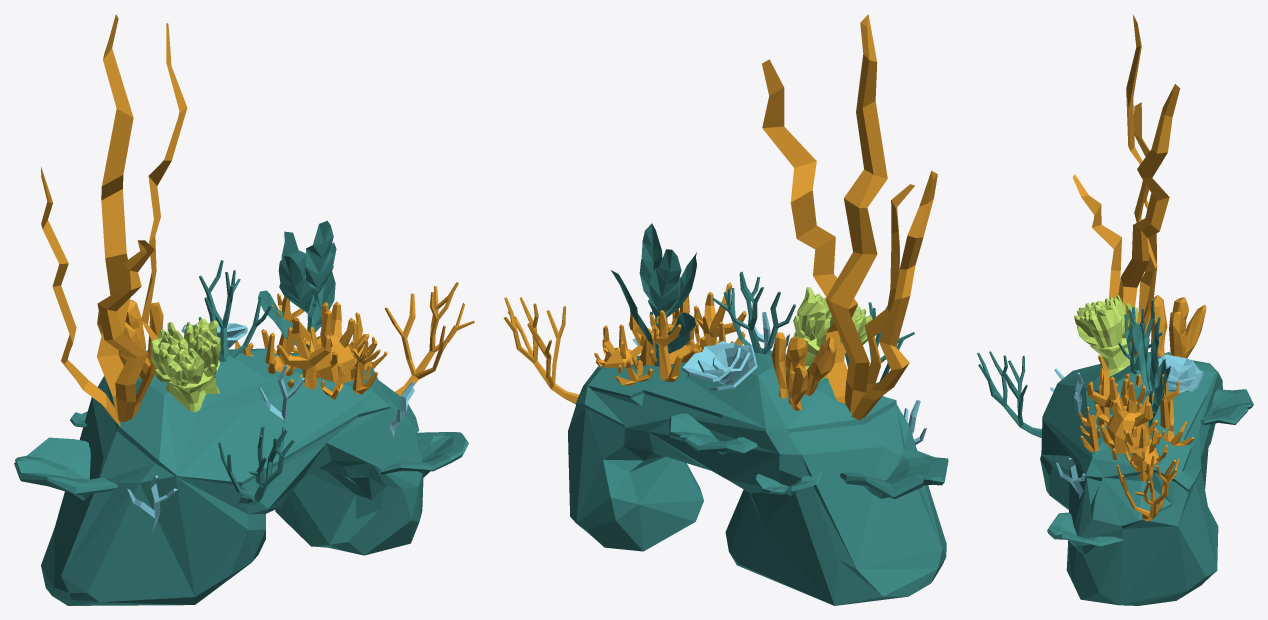
File: SM_Rock_Sea_Medium_Tunnel_Corals.fbx
3 views of the same model, side by side, from view 1: azimuth 30°, elevation 25°; view 2: azimuth 150°, elevation 25°; view 3: azimuth 270°, elevation 25° (orthographic). The views are drawn at different scales.
Visible parts, largest first — view 1: rock-sea-medium-tunnel-corals; view 2: rock-sea-medium-tunnel-corals; view 3: rock-sea-medium-tunnel-corals.
Part boxes in pixels (x1,y1,x2,y2): rock-sea-medium-tunnel-corals: [14, 14, 474, 605]; rock-sea-medium-tunnel-corals: [503, 14, 948, 605]; rock-sea-medium-tunnel-corals: [977, 15, 1253, 605].
Size of the model in its own units: 3.84 by 4.69 by 2.46.
